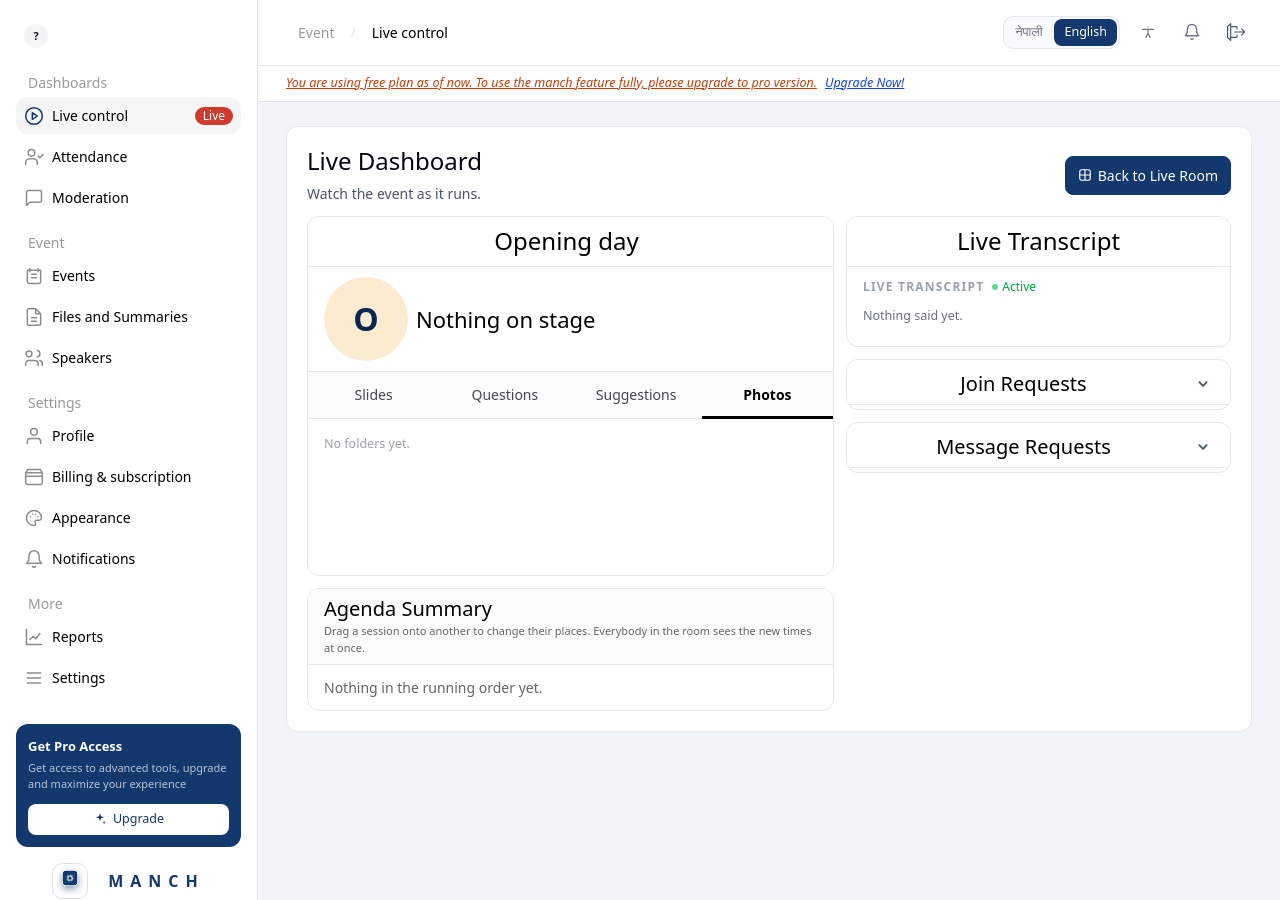
Test case: opening the organizer › opens the notifications page when the bell is pressed
Click the button named "Notifications".
click(1192, 32)  # box [1176,16,1208,48]
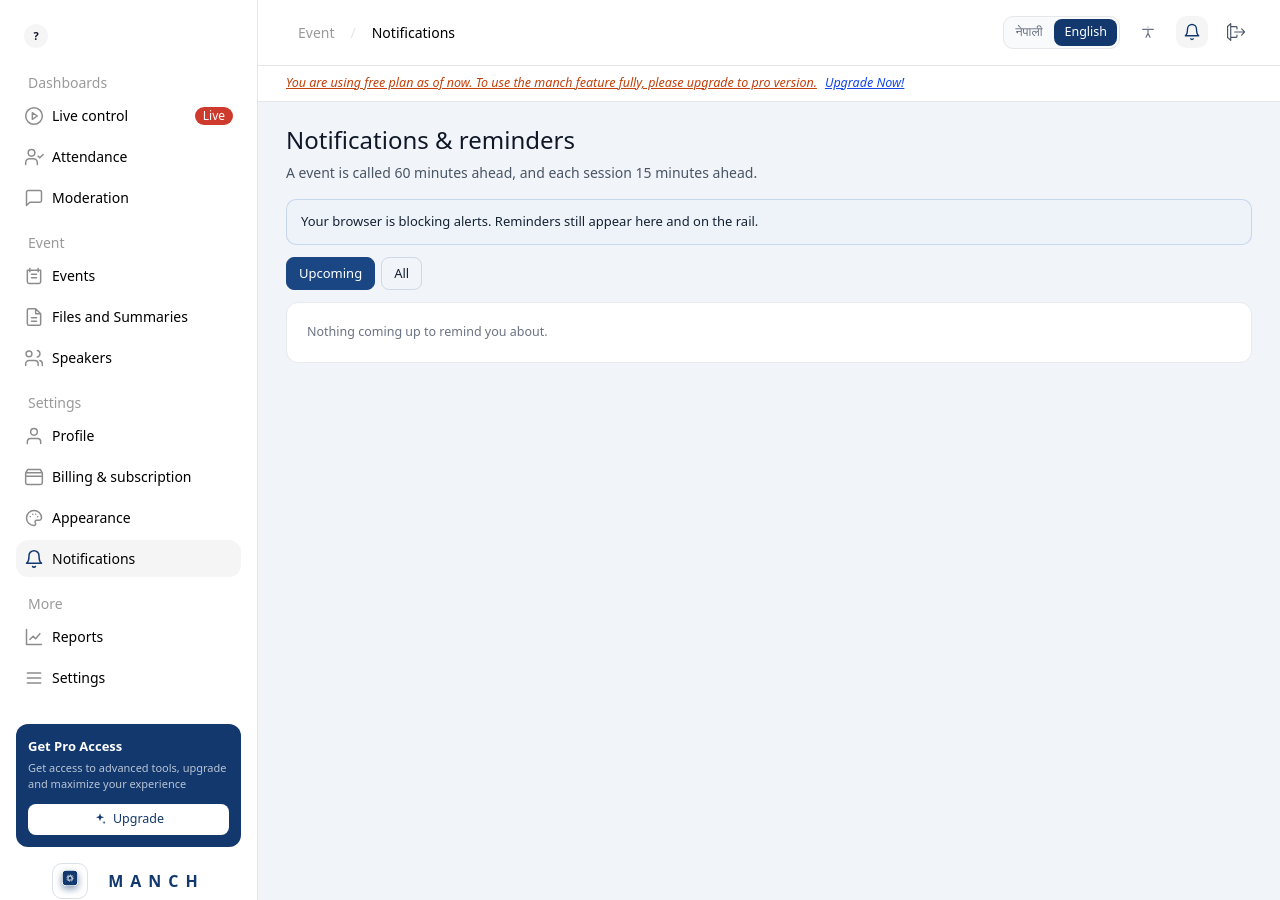
expect the heading "Notifications & reminders" is shown: met, box [286,122,575,156]
